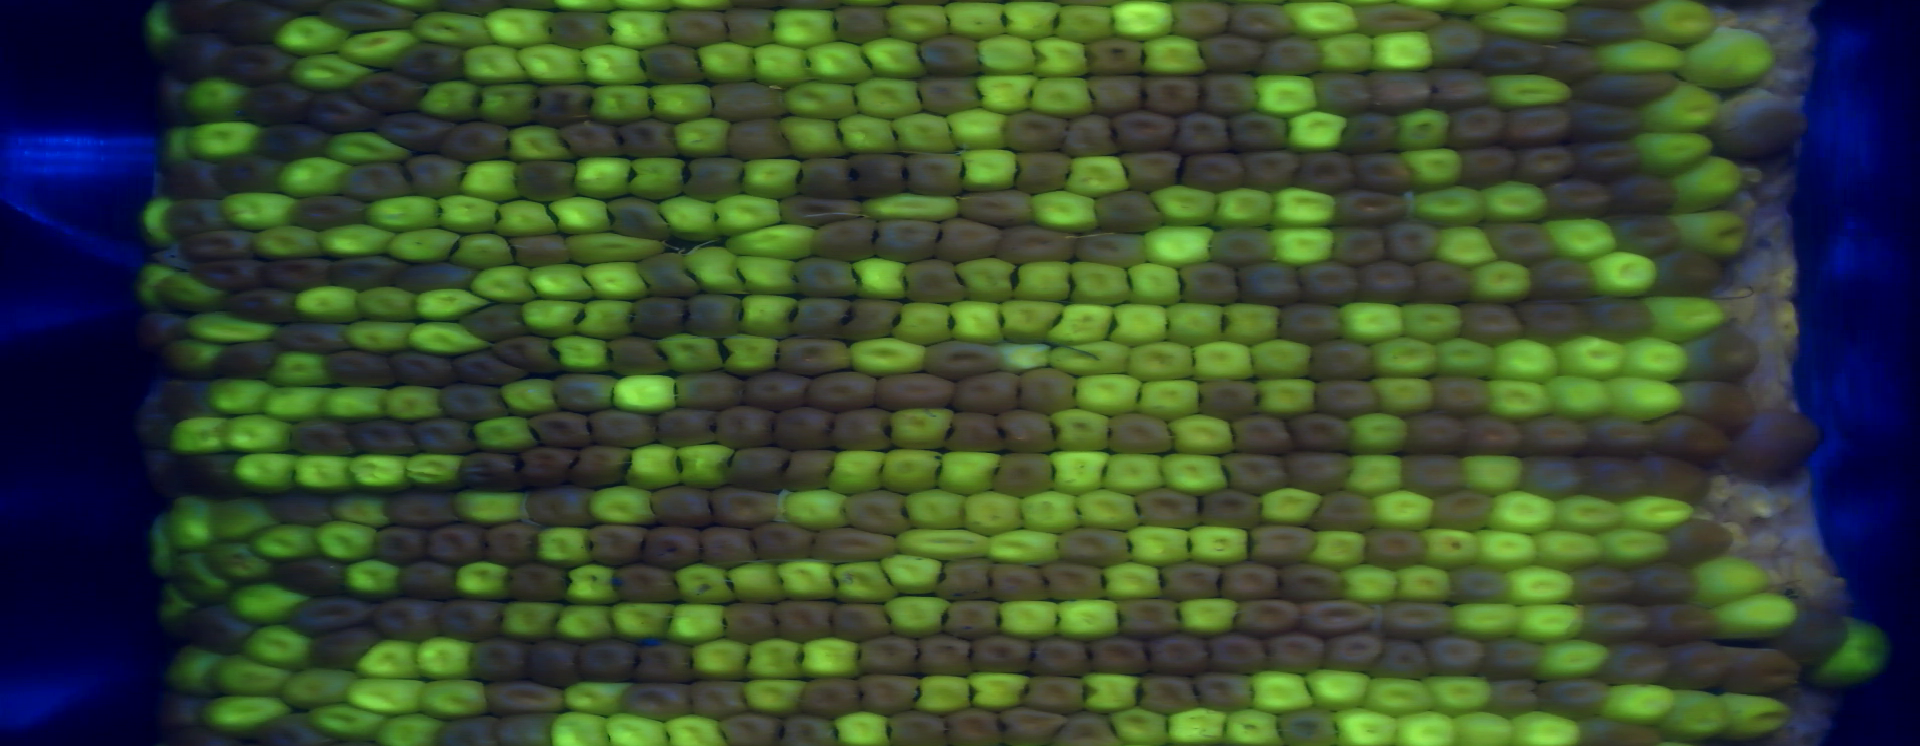fluorescent: (1816, 606, 1902, 687), (1703, 579, 1799, 641), (1679, 29, 1787, 83), (1471, 4, 1577, 48), (1027, 187, 1116, 240), (1671, 156, 1749, 214), (1654, 685, 1731, 744), (1632, 131, 1724, 180), (198, 693, 298, 739), (1692, 559, 1777, 610), (1716, 687, 1800, 739), (1646, 86, 1729, 137), (451, 154, 528, 208), (211, 648, 291, 699), (1603, 677, 1681, 730), (1676, 206, 1751, 261), (725, 220, 827, 261), (1487, 70, 1577, 115), (609, 369, 688, 420), (333, 26, 422, 71), (418, 6, 502, 54), (1134, 223, 1224, 267), (731, 292, 812, 341), (978, 526, 1068, 570), (1046, 296, 1120, 349), (419, 671, 493, 724), (1044, 337, 1138, 379), (929, 447, 1007, 497), (1256, 484, 1333, 534), (1273, 1, 1371, 40), (544, 332, 616, 385), (1464, 258, 1544, 306), (1641, 1, 1714, 53), (1483, 488, 1560, 537), (958, 486, 1027, 540), (272, 13, 353, 60), (1073, 364, 1147, 414), (1466, 522, 1544, 570), (1367, 26, 1442, 75), (274, 156, 356, 201), (1125, 522, 1198, 573), (1109, 298, 1177, 353), (1420, 521, 1490, 573), (1596, 37, 1686, 77), (480, 6, 561, 51), (1064, 255, 1139, 304), (950, 258, 1025, 307), (1395, 295, 1469, 344), (1131, 372, 1206, 421), (873, 445, 948, 494), (277, 665, 355, 712), (1551, 331, 1627, 379), (453, 491, 542, 532), (825, 557, 905, 603), (829, 108, 902, 157), (1615, 374, 1689, 423), (1509, 565, 1582, 614), (184, 122, 282, 159), (940, 104, 1018, 151), (1275, 185, 1352, 232), (1540, 216, 1618, 262), (1495, 336, 1565, 387), (1248, 334, 1325, 381), (1169, 409, 1239, 461), (365, 194, 451, 235), (163, 412, 238, 459), (1071, 485, 1142, 535), (1424, 334, 1505, 379), (184, 312, 274, 352), (301, 699, 392, 739), (1103, 443, 1171, 496), (1078, 666, 1145, 719), (1433, 222, 1505, 271), (997, 292, 1069, 341), (912, 666, 981, 718), (217, 414, 299, 457), (806, 36, 876, 86), (574, 44, 651, 89), (853, 73, 931, 119), (890, 402, 961, 451), (768, 2, 842, 49), (1649, 294, 1724, 341), (1364, 486, 1439, 533), (230, 579, 313, 621), (576, 290, 643, 342), (1122, 334, 1200, 379), (283, 51, 373, 89), (470, 265, 546, 310), (582, 261, 655, 307), (773, 113, 846, 159), (1062, 152, 1135, 198), (1007, 258, 1076, 307), (684, 244, 749, 296), (524, 263, 604, 306), (160, 271, 231, 318), (741, 44, 816, 89), (1588, 249, 1656, 299), (825, 446, 893, 496), (1408, 185, 1491, 225), (566, 156, 638, 202), (1536, 530, 1611, 575), (1051, 409, 1120, 457), (1342, 450, 1416, 495), (493, 200, 567, 245), (1504, 706, 1586, 746), (658, 605, 735, 648), (295, 283, 372, 326), (771, 557, 842, 604), (253, 519, 324, 566), (1031, 33, 1098, 82), (645, 78, 720, 122), (1618, 337, 1692, 381), (729, 254, 801, 299), (964, 668, 1036, 713), (250, 225, 331, 266), (860, 195, 966, 225), (845, 337, 931, 375), (738, 153, 808, 200), (900, 484, 970, 530), (1142, 29, 1209, 78), (1516, 603, 1589, 647), (1488, 376, 1559, 421), (1185, 521, 1256, 566), (587, 485, 666, 526), (785, 488, 852, 535), (621, 440, 684, 490), (725, 556, 789, 606), (653, 192, 721, 239), (888, 590, 953, 639), (1014, 485, 1084, 530), (179, 76, 249, 121), (454, 38, 524, 83), (536, 524, 602, 572), (137, 513, 187, 576), (563, 232, 680, 258), (1027, 69, 1095, 115), (1400, 146, 1467, 192), (1190, 336, 1258, 382), (1304, 666, 1371, 713), (1104, 1, 1176, 45), (220, 192, 300, 232), (879, 2, 956, 43), (1532, 641, 1614, 679), (1211, 186, 1286, 228), (416, 283, 491, 325), (203, 377, 278, 419), (234, 450, 302, 495), (1118, 258, 1188, 303), (1147, 185, 1223, 225), (673, 443, 736, 492), (471, 415, 545, 457), (435, 192, 502, 238), (244, 625, 315, 668), (898, 295, 954, 349), (696, 40, 764, 85), (860, 34, 928, 78), (1482, 179, 1550, 223), (1371, 333, 1440, 377), (1598, 528, 1675, 567), (998, 597, 1067, 641), (1056, 595, 1124, 639), (1447, 707, 1524, 746), (323, 132, 411, 167), (1258, 372, 1322, 419), (1337, 560, 1402, 606), (714, 194, 789, 234), (1451, 599, 1526, 639), (1461, 452, 1527, 497), (1428, 673, 1498, 715), (344, 554, 407, 601), (1113, 702, 1180, 746), (1347, 415, 1420, 456), (798, 639, 866, 684), (1364, 677, 1438, 718), (268, 348, 336, 392), (283, 451, 354, 492), (1162, 301, 1227, 347), (478, 82, 542, 127), (740, 674, 808, 717), (414, 635, 482, 677), (786, 78, 861, 118), (1284, 111, 1352, 154), (1550, 383, 1618, 426), (602, 9, 676, 48), (954, 148, 1025, 189), (405, 320, 486, 355), (353, 643, 424, 684), (403, 447, 468, 491), (164, 649, 229, 693), (1044, 450, 1113, 491), (1551, 492, 1626, 530), (354, 282, 429, 320), (942, 1, 1019, 38), (555, 601, 621, 644), (688, 631, 751, 676), (126, 1, 189, 47), (891, 530, 992, 559), (1251, 73, 1321, 114), (1095, 559, 1164, 599), (949, 296, 1007, 345), (1396, 565, 1455, 612), (587, 82, 654, 124), (716, 332, 784, 374), (517, 43, 584, 85), (313, 222, 389, 258), (1051, 1, 1122, 40), (546, 196, 617, 235), (879, 552, 950, 592), (518, 295, 579, 341), (977, 32, 1040, 76), (1336, 704, 1402, 746), (453, 559, 516, 603), (601, 710, 678, 746), (1220, 303, 1283, 345), (1343, 299, 1407, 342), (655, 332, 719, 375), (888, 108, 955, 148), (849, 257, 909, 303), (451, 232, 516, 273), (318, 516, 380, 560), (997, 1, 1065, 40), (667, 116, 736, 156), (384, 227, 463, 261), (419, 78, 481, 121), (504, 127, 571, 168), (347, 454, 413, 495), (209, 496, 276, 537), (610, 598, 673, 639), (331, 490, 398, 529), (1374, 372, 1439, 413), (260, 382, 336, 416), (1276, 227, 1338, 268), (1249, 669, 1311, 710), (1322, 32, 1381, 76), (349, 677, 427, 710), (327, 382, 391, 423), (501, 603, 564, 643), (174, 559, 234, 601), (1309, 530, 1374, 570), (673, 563, 736, 604), (165, 494, 216, 544), (1629, 494, 1697, 530), (347, 318, 416, 354), (1163, 708, 1228, 746), (1177, 597, 1242, 635), (624, 156, 687, 195), (560, 562, 622, 601), (972, 72, 1031, 114), (207, 540, 269, 579), (560, 684, 636, 715), (1164, 456, 1232, 491), (1400, 108, 1453, 151), (831, 709, 894, 746), (152, 570, 190, 628), (377, 718, 456, 746), (660, 717, 735, 746), (744, 639, 806, 675), (132, 265, 179, 311), (549, 713, 613, 746), (133, 196, 178, 244), (1397, 712, 1458, 746), (165, 334, 217, 375), (1223, 712, 1282, 746), (383, 388, 441, 423), (504, 382, 555, 418), (163, 122, 200, 167)
nonfluorescent: (1730, 410, 1829, 474), (1787, 598, 1851, 684), (1720, 98, 1806, 162), (1652, 412, 1741, 469), (1725, 644, 1812, 702), (1670, 376, 1767, 428), (1662, 516, 1740, 576), (806, 521, 899, 570), (1646, 246, 1727, 303), (1662, 633, 1736, 693), (209, 148, 291, 202), (1229, 590, 1311, 643), (213, 33, 299, 83), (1112, 588, 1189, 643), (480, 675, 576, 719), (1116, 146, 1196, 197), (836, 148, 917, 200), (1487, 213, 1567, 265), (1684, 331, 1766, 381), (130, 439, 198, 499), (1587, 299, 1667, 350), (1425, 372, 1501, 426), (600, 189, 677, 241), (708, 402, 785, 454), (993, 219, 1078, 267), (898, 147, 976, 198), (767, 336, 860, 379), (700, 481, 784, 529), (538, 81, 611, 135), (287, 189, 373, 234), (920, 337, 1011, 380), (1276, 554, 1351, 606), (872, 219, 954, 267), (838, 488, 915, 538), (698, 80, 793, 120), (154, 194, 236, 240), (185, 604, 261, 654), (789, 254, 866, 303), (460, 632, 534, 684), (350, 69, 433, 114), (1515, 299, 1596, 345), (1193, 376, 1273, 423), (1229, 410, 1304, 461), (934, 211, 1005, 263), (804, 367, 891, 410), (1205, 225, 1289, 269), (258, 122, 343, 167), (320, 252, 404, 296), (639, 521, 707, 576), (267, 552, 359, 593), (1622, 560, 1700, 608), (306, 625, 383, 673), (404, 149, 474, 202), (1070, 225, 1153, 269), (1516, 415, 1604, 457), (502, 559, 580, 605), (1308, 485, 1380, 535), (1178, 149, 1254, 197), (1543, 173, 1619, 220), (1393, 452, 1469, 500), (1570, 714, 1684, 746), (807, 220, 891, 263), (1296, 597, 1382, 638), (911, 73, 993, 118), (1642, 451, 1711, 503), (1244, 521, 1324, 566), (1420, 628, 1494, 677), (1575, 134, 1652, 180), (1364, 526, 1441, 572), (436, 120, 522, 162), (1232, 260, 1307, 307), (898, 256, 969, 306), (1014, 369, 1085, 419), (1596, 637, 1671, 684), (504, 156, 580, 202), (1362, 65, 1435, 113), (1092, 189, 1172, 233), (1102, 407, 1176, 454), (583, 408, 662, 452), (992, 407, 1057, 461), (1234, 148, 1305, 197), (1287, 445, 1358, 494), (937, 598, 1011, 644), (793, 673, 868, 719), (263, 251, 347, 293), (1076, 34, 1155, 78), (722, 116, 801, 160), (765, 401, 838, 448), (786, 295, 855, 345), (1575, 69, 1682, 100), (1527, 256, 1600, 303), (1202, 484, 1272, 533), (460, 298, 534, 344), (324, 347, 398, 393), (611, 559, 684, 605), (1382, 216, 1447, 268), (1331, 184, 1413, 225), (377, 107, 459, 148), (1499, 104, 1583, 145), (676, 154, 753, 198), (1382, 598, 1460, 642), (871, 372, 960, 410), (1427, 490, 1501, 535), (1580, 414, 1663, 454), (1641, 600, 1722, 642), (1460, 298, 1532, 344), (421, 523, 493, 570), (1196, 70, 1265, 119), (1131, 668, 1200, 717), (915, 635, 984, 682), (566, 445, 636, 492), (1291, 262, 1364, 307), (954, 371, 1027, 416), (681, 292, 747, 342), (228, 285, 307, 327), (550, 369, 624, 413), (1460, 145, 1532, 190), (770, 598, 842, 643), (345, 413, 418, 458), (386, 489, 458, 534), (636, 247, 700, 298), (694, 524, 759, 575), (589, 524, 654, 575), (1460, 414, 1536, 457), (1082, 636, 1158, 679), (1145, 635, 1221, 677), (239, 80, 315, 122), (453, 352, 539, 390), (1220, 450, 1289, 496), (636, 43, 709, 87), (771, 194, 869, 227), (932, 560, 998, 609), (789, 159, 868, 200), (740, 370, 819, 410), (998, 707, 1080, 746), (489, 339, 571, 379), (1474, 33, 1549, 76), (1447, 99, 1511, 149), (1580, 452, 1643, 502), (1487, 628, 1550, 679), (396, 258, 482, 295), (1216, 560, 1284, 606), (156, 380, 234, 420), (604, 333, 673, 379), (1130, 489, 1206, 530), (1411, 256, 1478, 303), (384, 348, 456, 392), (645, 484, 716, 528), (1198, 36, 1277, 75), (943, 407, 1007, 456), (220, 1, 300, 40), (302, 89, 382, 129), (633, 635, 697, 684), (949, 192, 1040, 227), (960, 635, 1044, 671), (726, 445, 791, 492), (1005, 151, 1078, 194), (320, 1, 425, 31), (1607, 170, 1676, 214), (984, 559, 1051, 605), (1029, 636, 1098, 680), (1276, 707, 1354, 746), (620, 682, 698, 722), (1040, 566, 1113, 608), (574, 635, 638, 682), (158, 686, 213, 741), (162, 29, 220, 81), (1578, 601, 1658, 639), (287, 590, 366, 628), (454, 451, 527, 492), (1342, 1, 1449, 29), (1299, 145, 1360, 194), (1611, 211, 1678, 256), (531, 409, 598, 454), (437, 597, 503, 642), (525, 489, 595, 532), (1313, 69, 1375, 116), (827, 601, 902, 641), (1015, 677, 1093, 715), (544, 12, 622, 50), (1567, 98, 1641, 138), (1200, 628, 1267, 673), (1522, 456, 1587, 501), (756, 518, 820, 563), (268, 318, 354, 353), (338, 164, 413, 203), (216, 341, 290, 380), (255, 714, 347, 746), (283, 416, 355, 457), (1429, 62, 1491, 109), (1106, 103, 1176, 145), (1260, 631, 1330, 673), (516, 445, 578, 491), (1402, 412, 1469, 454), (1320, 630, 1387, 673), (1540, 676, 1608, 719), (162, 156, 229, 198), (849, 675, 924, 713), (1570, 1, 1641, 42), (1222, 109, 1293, 149), (1180, 258, 1240, 306), (844, 298, 904, 345), (1371, 631, 1431, 679), (1082, 72, 1147, 116), (827, 410, 891, 454), (1446, 565, 1515, 606), (530, 636, 583, 690), (407, 415, 473, 458), (490, 709, 567, 746), (1356, 260, 1425, 300), (1288, 413, 1358, 453), (1520, 141, 1587, 183), (857, 635, 924, 676), (375, 600, 442, 642), (629, 296, 689, 343), (989, 453, 1060, 492), (715, 600, 786, 639), (684, 681, 756, 720), (1171, 113, 1236, 156), (564, 120, 629, 163), (1196, 669, 1258, 714), (915, 33, 983, 73), (829, 2, 891, 47), (720, 7, 782, 51), (187, 454, 253, 496), (665, 9, 735, 48), (887, 707, 956, 746), (1000, 108, 1068, 148), (1160, 559, 1224, 600), (942, 703, 1007, 745), (398, 559, 463, 600), (1349, 149, 1420, 187), (1313, 380, 1379, 420), (1310, 341, 1380, 379), (1060, 528, 1138, 562), (484, 521, 544, 565), (1340, 109, 1402, 151), (1224, 1, 1303, 34), (184, 225, 262, 258), (1171, 1, 1234, 42), (1141, 73, 1205, 114), (388, 47, 468, 78), (1330, 224, 1392, 265), (1058, 115, 1117, 158), (1278, 304, 1346, 341), (671, 371, 736, 409), (722, 707, 785, 746), (1425, 20, 1479, 65), (656, 409, 722, 446), (1260, 36, 1320, 76), (1054, 712, 1122, 746), (506, 236, 578, 268), (371, 524, 429, 562), (1547, 39, 1594, 85), (1580, 562, 1629, 606), (130, 399, 179, 443), (613, 121, 681, 153), (781, 452, 835, 491), (197, 256, 268, 285), (138, 310, 187, 352), (438, 381, 497, 415), (431, 722, 512, 746), (170, 1, 240, 28), (268, 492, 331, 522), (1491, 677, 1538, 717), (778, 714, 831, 746)
